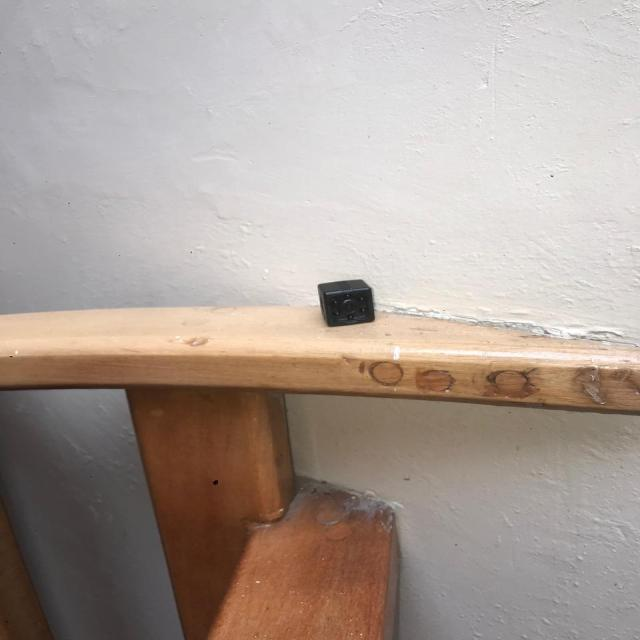hidden camera: (341, 301, 360, 315)
